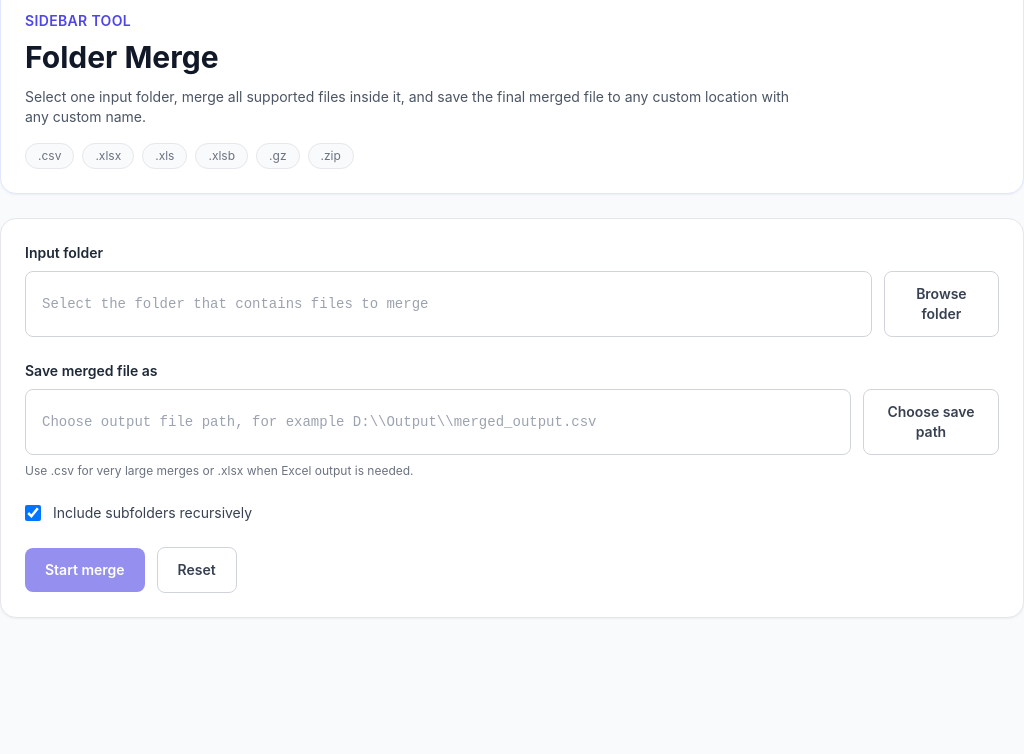
Test case: FolderMergePage › submits a merge request and shows the returned summary
Type "D:\\Input\\Monthly" into the field with placeholder "Select the folder that contains files to merge" at (448,304), box [25,271,872,337]
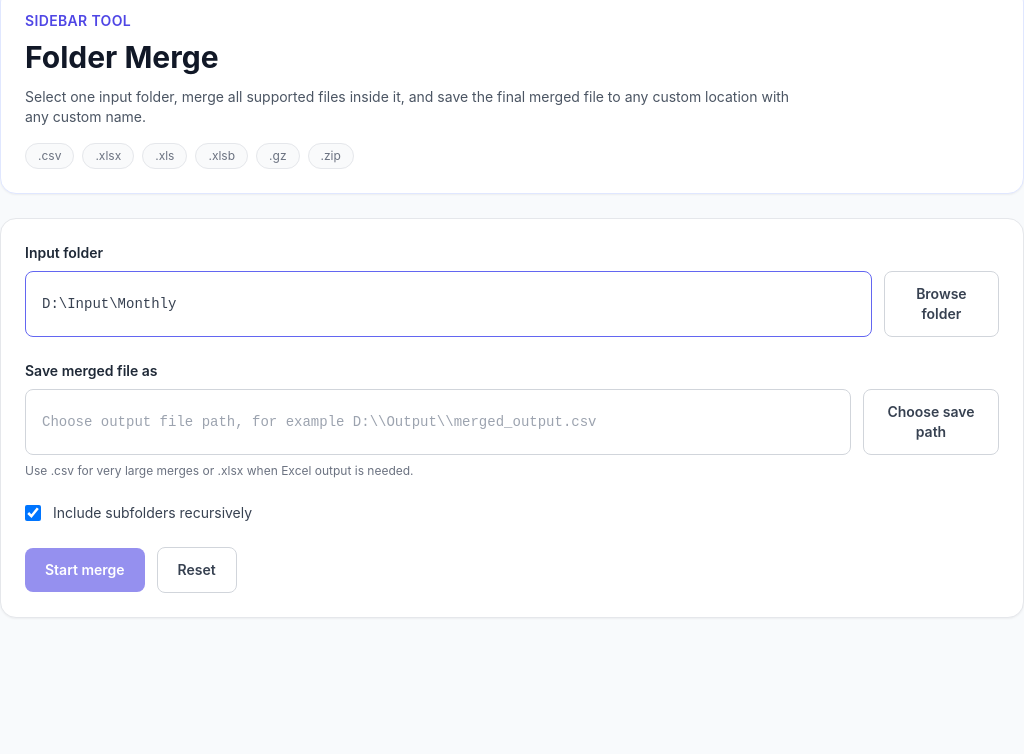
Type "D:\\Output\\merged_output.csv" into the 2nd field at (438,422), box [25,389,851,455]
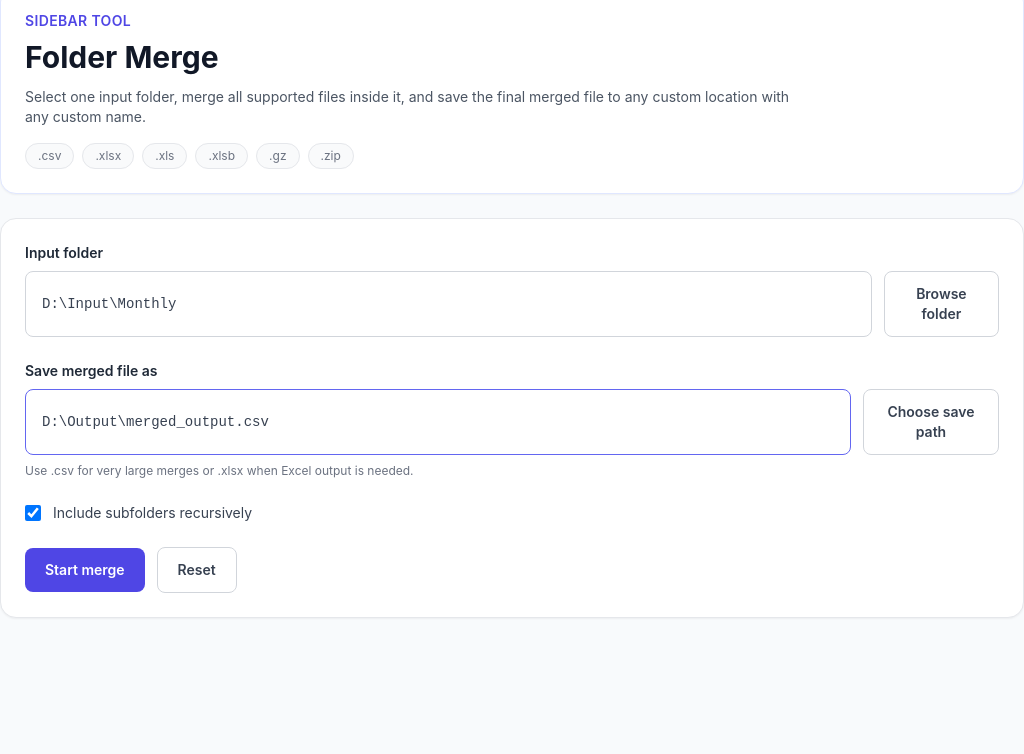
Click the button "Start merge" at (85,570), box [25,548,145,592]
(page scrolled)
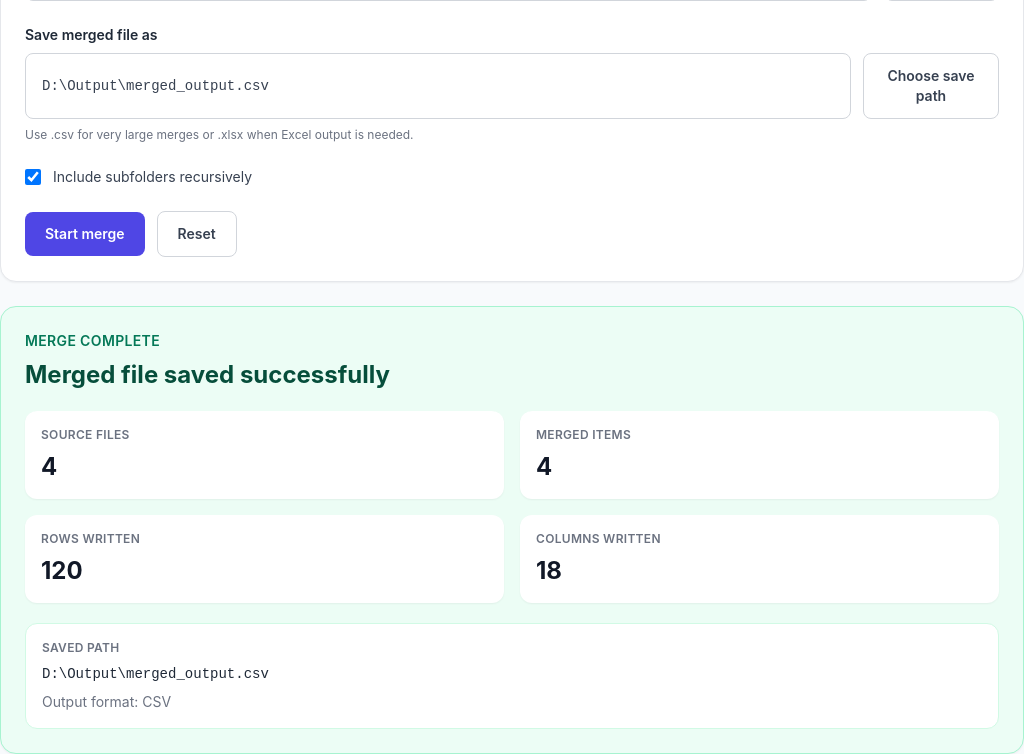
Check: the heading "Merged file saved successfully" is shown, box [25,360,390,389]
Check: the text "120" is shown, box [41,556,83,585]
Check: the text "18" is shown, box [536,556,562,585]
